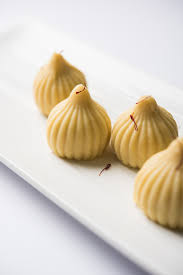modak: (110, 85, 181, 168), (43, 86, 118, 163), (135, 128, 183, 224), (32, 43, 96, 112)
